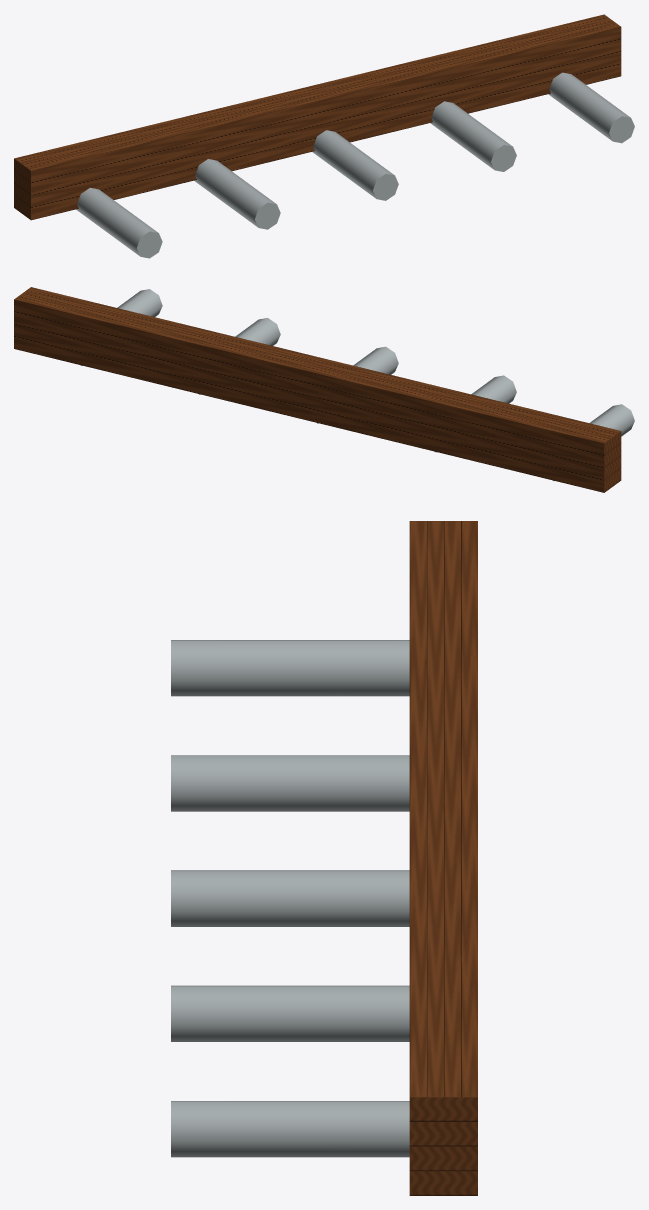
File: suburban-outbreak-interiors-wardrobe-hanger-rail-29c48888__20010.glb
3 renders of one model, top to bottom at view 1: azimuth 30°, elevation 25°; view 2: azimuth 150°, elevation 25°; view 3: azimuth 270°, elevation 25°, orthographic. The views are drawn at different scales.
Visible parts, largest first — view 1: wardrobe-hanger-rail; view 2: wardrobe-hanger-rail; view 3: wardrobe-hanger-rail.
Part boxes in pixels (x1,y1,x2,y2): wardrobe-hanger-rail: (14, 14, 634, 258); wardrobe-hanger-rail: (14, 287, 634, 492); wardrobe-hanger-rail: (171, 521, 477, 1195).
Bounding box in the file's own units: 1 × 0.0945 × 0.225.
Materials: 2 (1 with a texture image).
